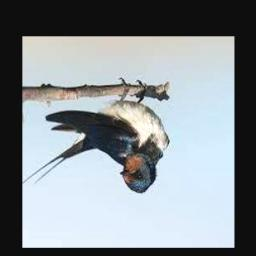Swallow: (22, 82, 168, 193)
